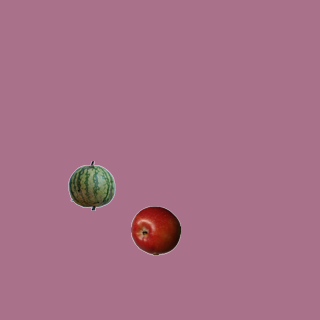Apple Braeburn: (130, 205, 180, 255)
Watermelon: (66, 160, 116, 210)
